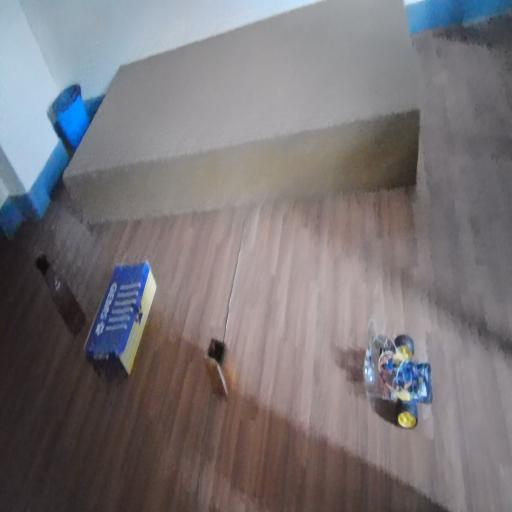Bottle: (28, 242, 95, 337)
car: (355, 318, 437, 455)
